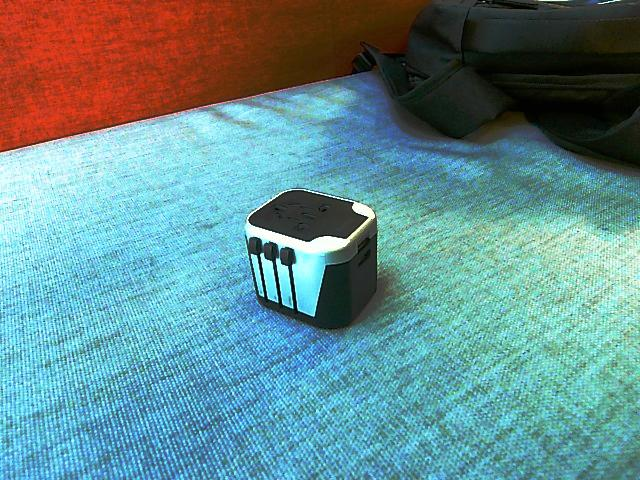adapter: (242, 187, 378, 329)
